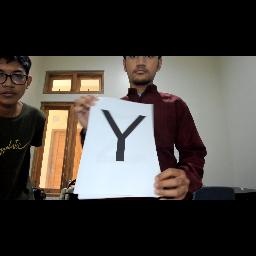y: (99, 106, 149, 166)
